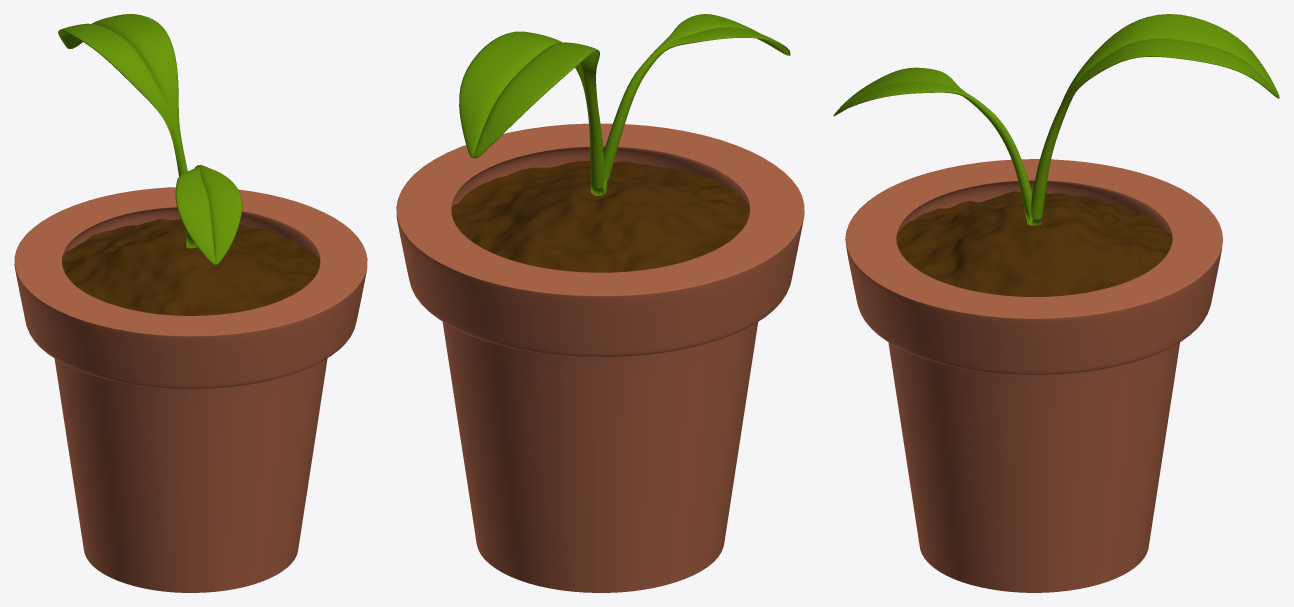
File: plant_grow_phase_1.fbx
3 views of the same model, side by side, from view 1: azimuth 30°, elevation 25°; view 2: azimuth 150°, elevation 25°; view 3: azimuth 270°, elevation 25° (orthographic). The views are drawn at different scales.
Visible parts, largest first — view 1: grown_plant; view 2: grown_plant; view 3: grown_plant.
Part boxes in pixels (x1,y1,x2,y2): grown_plant: [14, 14, 367, 592]; grown_plant: [396, 14, 804, 592]; grown_plant: [833, 14, 1279, 592].
Bounding box in the file's own units: 3.28 × 4.86 × 3.88.
